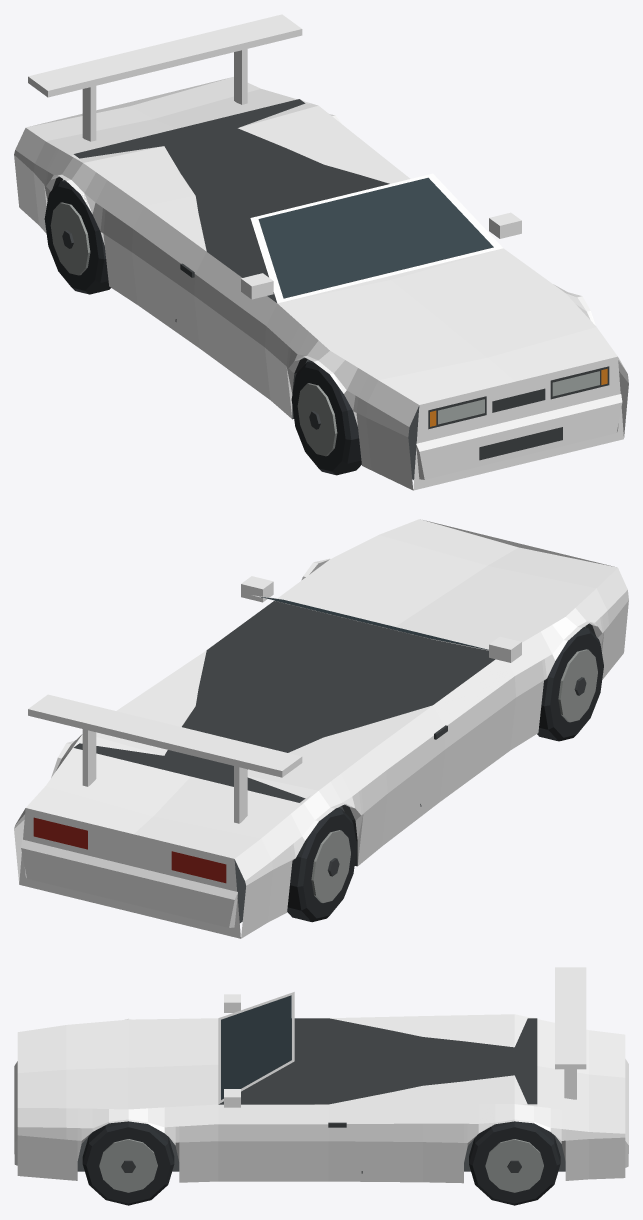
Rendered from cutler_ozark_corrida.glb.
3 renders of one model, top to bottom at view 1: azimuth 30°, elevation 25°; view 2: azimuth 150°, elevation 25°; view 3: azimuth 270°, elevation 25°, orthographic. The views are drawn at different scales.
Parts seen in each view (by area): view 1: cutler_ozark_corrida; view 2: cutler_ozark_corrida; view 3: cutler_ozark_corrida.
Part boxes in pixels (<box>): cutler_ozark_corrida: <box>14,14,628,490</box>; cutler_ozark_corrida: <box>14,519,628,938</box>; cutler_ozark_corrida: <box>14,967,628,1205</box>.
Bounding box in the file's own units: 1.72 × 1.1 × 4.33.
8 materials, 1 textured.
